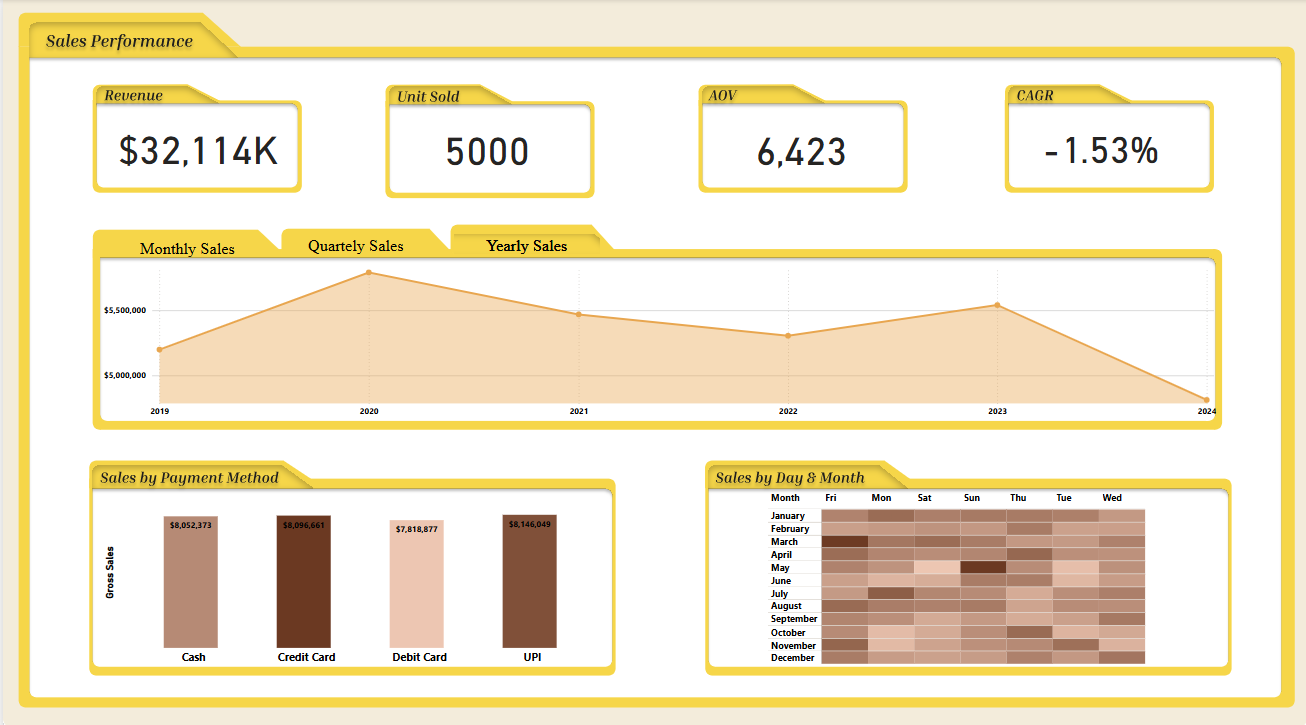

What the dashboard file says about the page in this screenshot:
{"tool":"powerbi","page":{"name":"Sales Performance Dashboard","canvas":[1920,1080],"ordinal":5},"visuals":[{"type":"card","title":"Revenue","fields":{"Values":["Measures Table.Total Gross Sales"]},"box":[144,160,272,96],"z":0},{"type":"card","title":"Unit Sold","fields":{"Values":["Measures Table.Gross Orders"]},"box":[576,176,272,80],"z":2000},{"type":"card","title":"AOV","fields":{"Values":["Measures Table.Gross AOV"]},"box":[1040,160,272,112],"z":3000},{"type":"card","title":"CAGR","fields":{"Values":["Measures Table.CAGR"]},"box":[1504,160,224,112],"z":4000},{"type":"columnChart","title":"Payment Method","fields":{"Category":["public sales_data.payment_method"],"Y":["Measures Table.Gross Sales"]},"box":[144,720,752,272],"z":5000},{"type":"pivotTable","title":"HeatMap","fields":{"Values":["Measures Table.Gross Sales"],"Rows":["CalendarDim.Date.Variation.Date Hierarchy.Month"],"Columns":["CalendarDim.Day of Year","CalendarDim.Date.Variation.Date Hierarchy.Day"]},"box":[1120,720,672,272],"z":6000},{"type":"actionButton","box":[416,352,216,32],"z":7000},{"type":"areaChart","fields":{"Category":["CalendarDim.Date.Variation.Date Hierarchy.Month"],"Y":["Measures Table.Gross Sales"]},"box":[144,384,1648,240],"z":8000},{"type":"actionButton","title":"active M btn","box":[144,342,256,48],"z":13000},{"type":"actionButton","title":"Q btn","box":[400,336,240,48],"z":14000},{"type":"actionButton","title":"inActive year btn","box":[656,336,231,48],"z":15000}]}

Visuals, with their boxes in screenshot pixels (x1, y1, x2, y2), scaled from the page's 1920x1080 canvas onto the 1306x725 screenshot:
"Revenue" card: <box>98,107,283,172</box>
"Unit Sold" card: <box>392,118,577,172</box>
"AOV" card: <box>707,107,892,183</box>
"CAGR" card: <box>1023,107,1175,183</box>
"Payment Method" columnChart: <box>98,483,609,666</box>
"HeatMap" pivotTable: <box>762,483,1219,666</box>
actionButton: <box>283,236,430,258</box>
areaChart - CalendarDim.Date.Variation.Date Hierarchy.Month x Measures Table.Gross Sales: <box>98,258,1219,419</box>
"active M btn" actionButton: <box>98,230,272,262</box>
"Q btn" actionButton: <box>272,226,435,258</box>
"inActive year btn" actionButton: <box>446,226,603,258</box>
